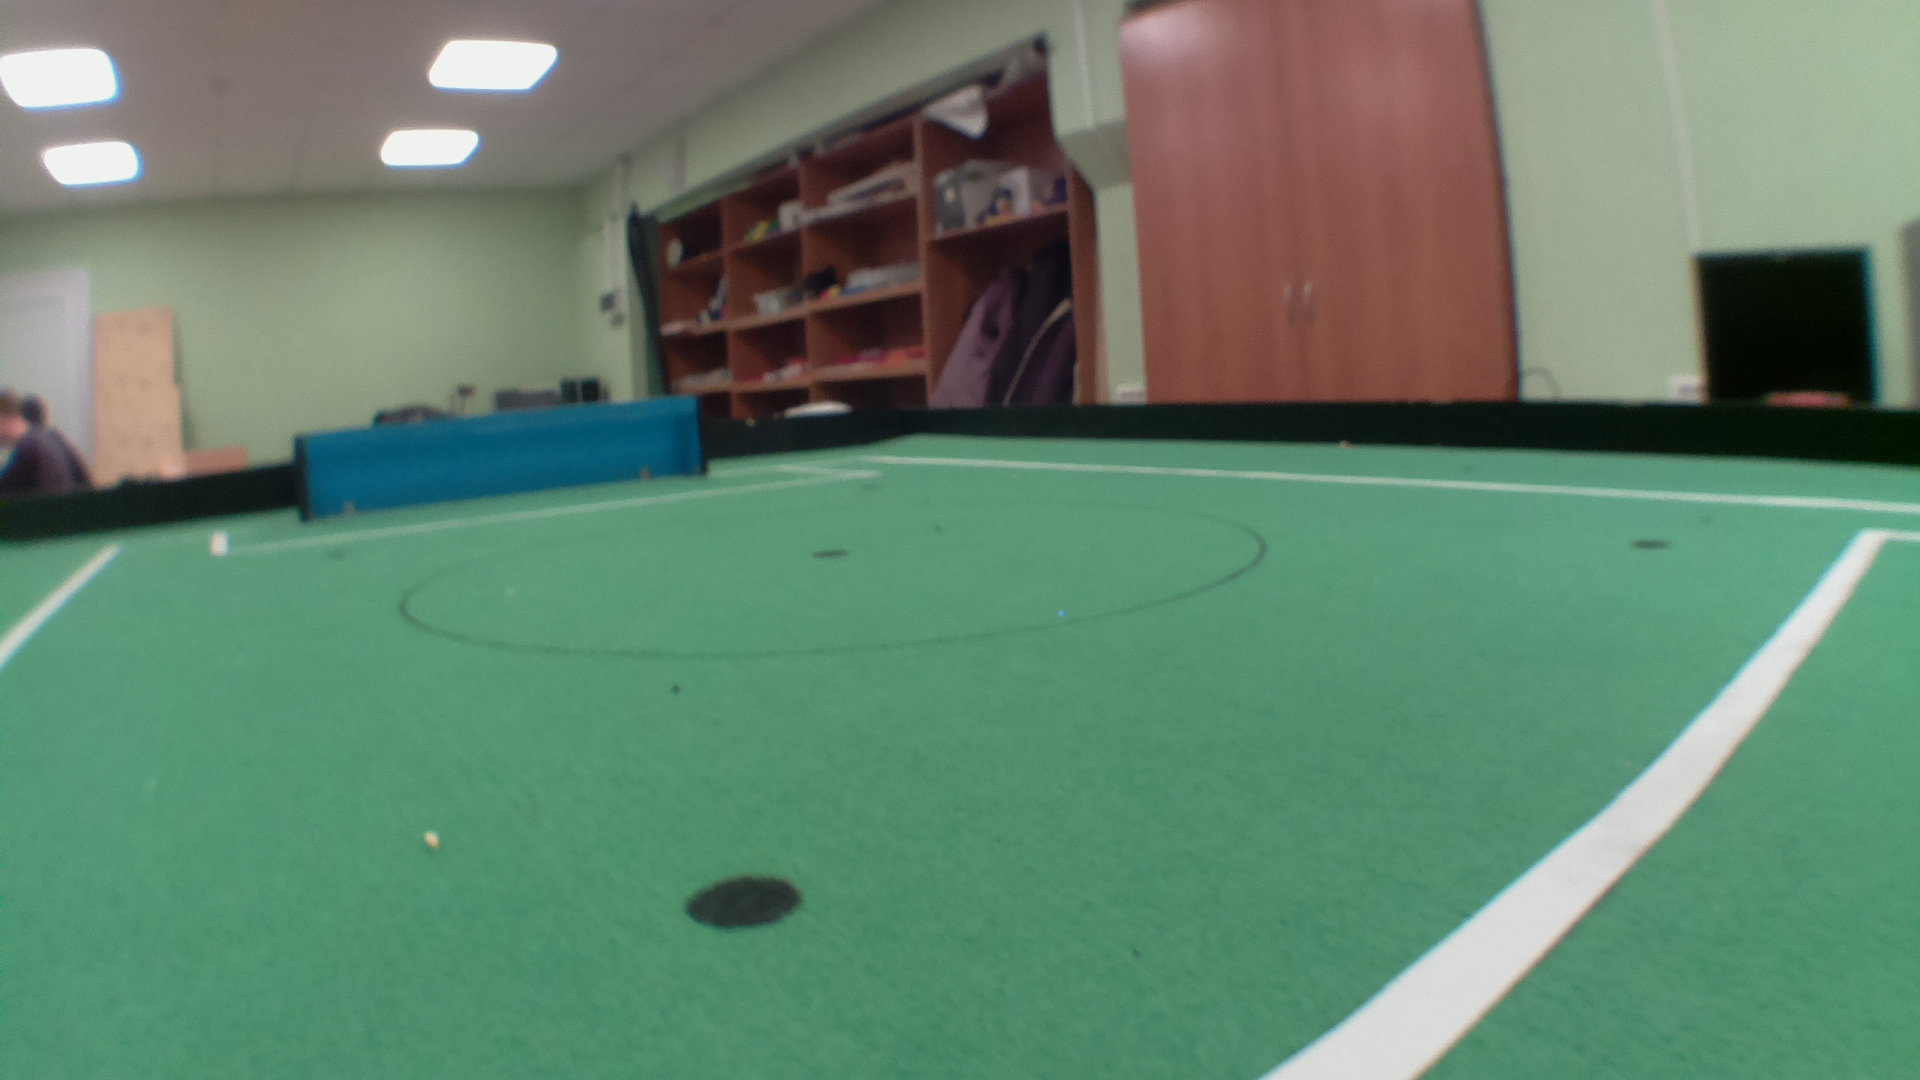BlueGoal: (303, 397, 700, 521)
